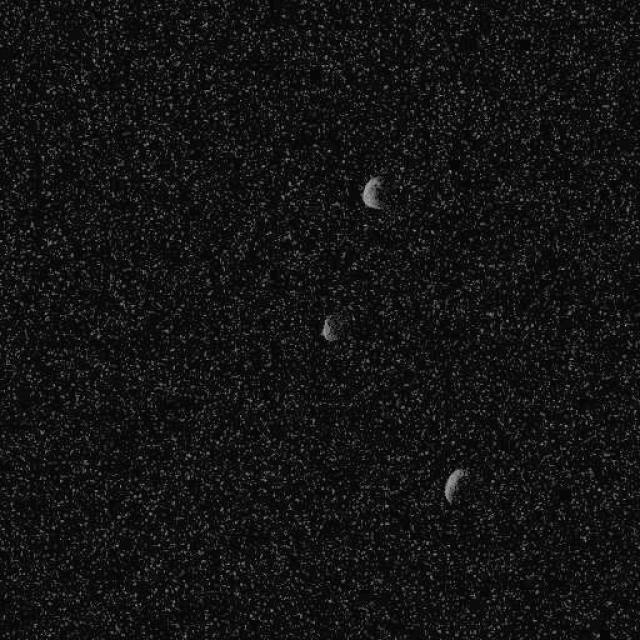D2: (442, 466, 467, 505), (360, 174, 385, 210), (318, 315, 338, 343)
